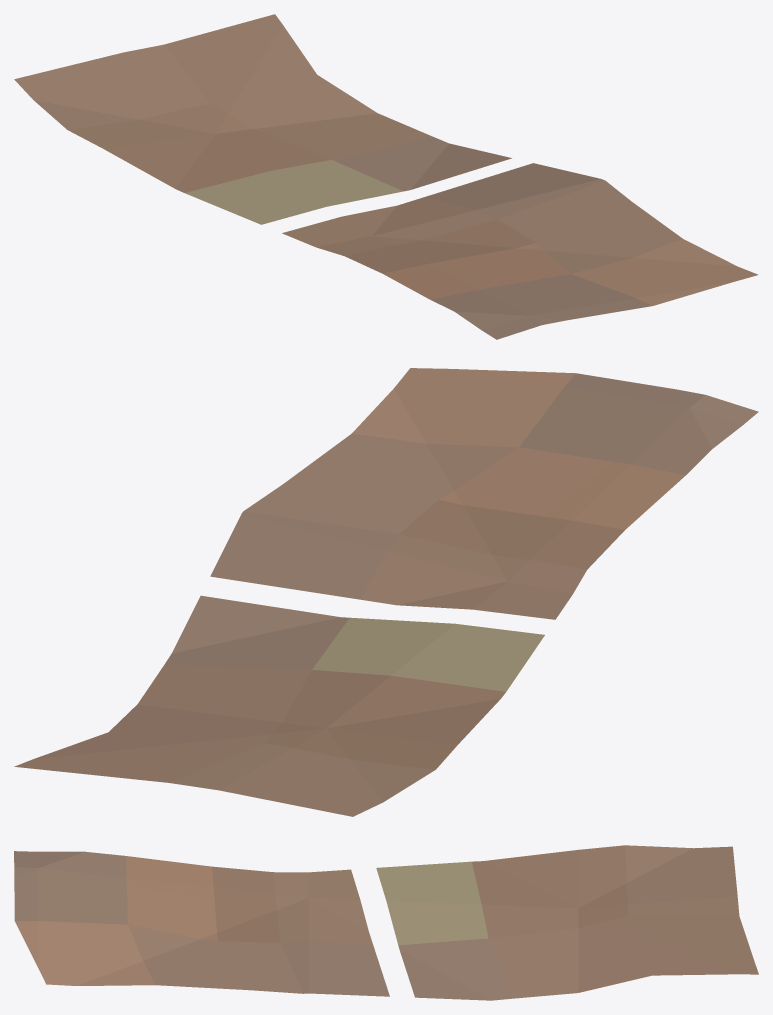
Rendered from farm_-26_-32_soil.glb.
3 renders of one model, top to bottom at view 1: azimuth 30°, elevation 25°; view 2: azimuth 150°, elevation 25°; view 3: azimuth 270°, elevation 25°, orthographic. The views are drawn at different scales.
Visible parts, largest first — view 1: geometry_0; view 2: geometry_0; view 3: geometry_0.
Part boxes in pixels (x1=…): geometry_0: x1=14, y1=14, x2=758, y2=339; geometry_0: x1=14, y1=368, x2=758, y2=816; geometry_0: x1=14, y1=845, x2=758, y2=1000.
Bounding box in the file's own units: 106 × 18.79 × 221.
